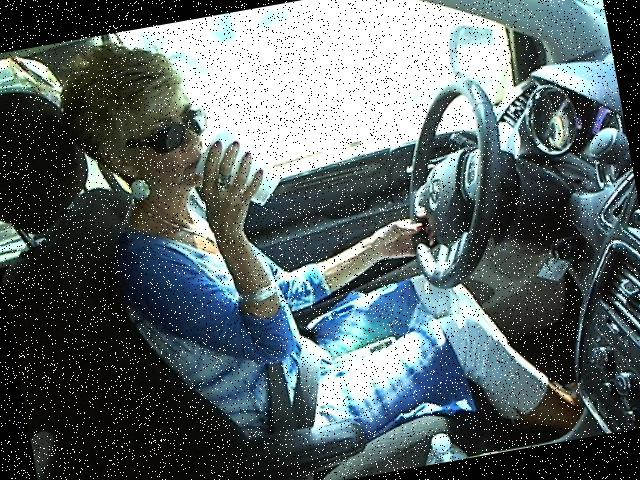c4 - Drinking: (36, 0, 545, 401)
